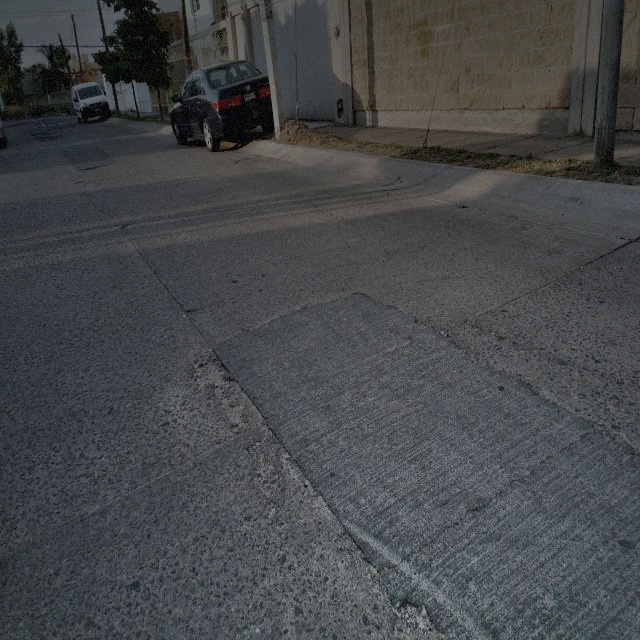pothole: (285, 459, 370, 572), (191, 356, 255, 433), (246, 428, 278, 510), (396, 601, 438, 633)
